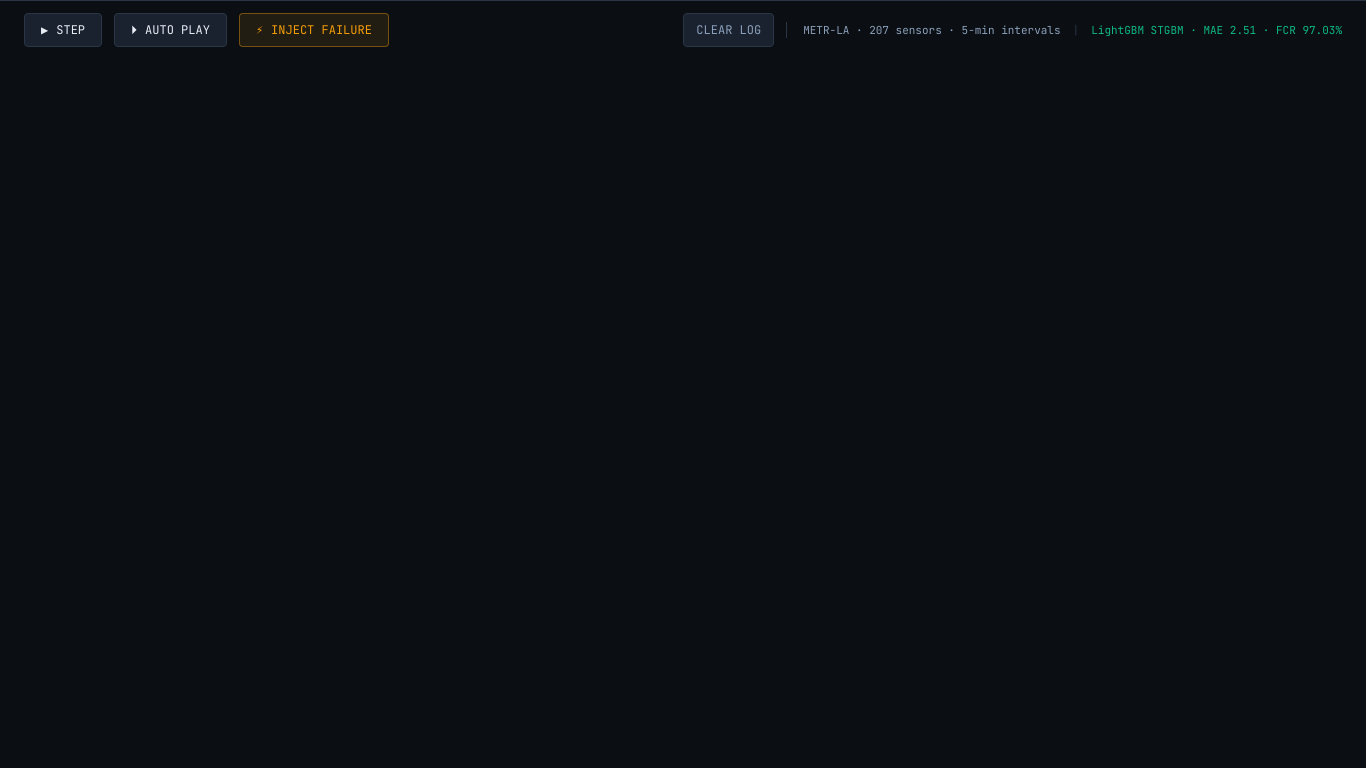
Scenario: ControlDock › CANCEL closes the inject-failure modal without submitting
Click the button with aria-label "Inject sensor failure".
click(314, 30)  # box [239,13,389,47]
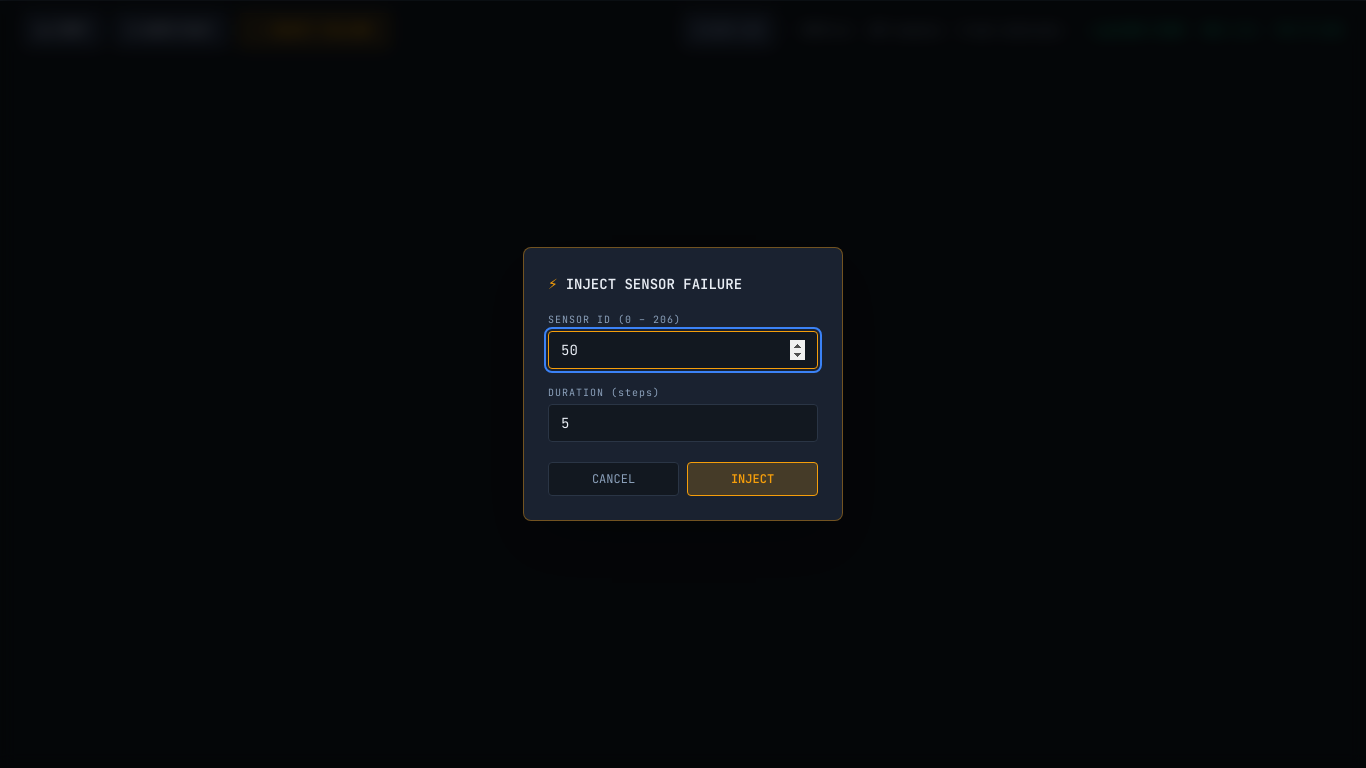
Click the button "CANCEL".
click(614, 479)  # box [548,462,679,496]
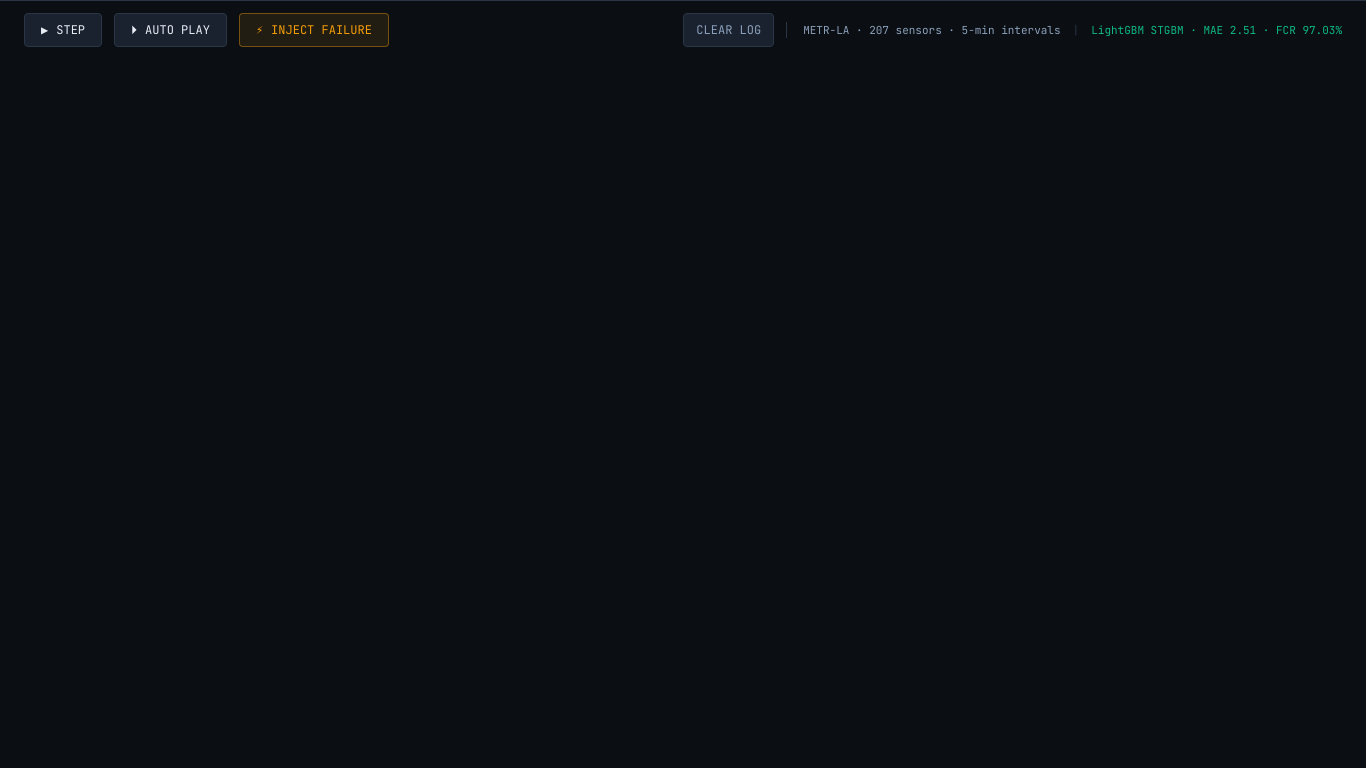
Now the heading "INJECT SENSOR FAILURE" is gone
